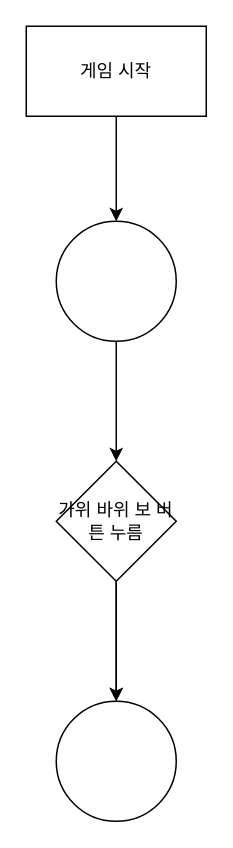
The diagram is 233 pixels wide and 848 high, and some of its shapes have lost their labels. The shapes that lost their labels are listed below. From the top down, each one's centre as x and y in pixels, then its label:
At pixel 115 280: "가위 바위 보 화면 출력".
At pixel 115 760: "결과 출력".
